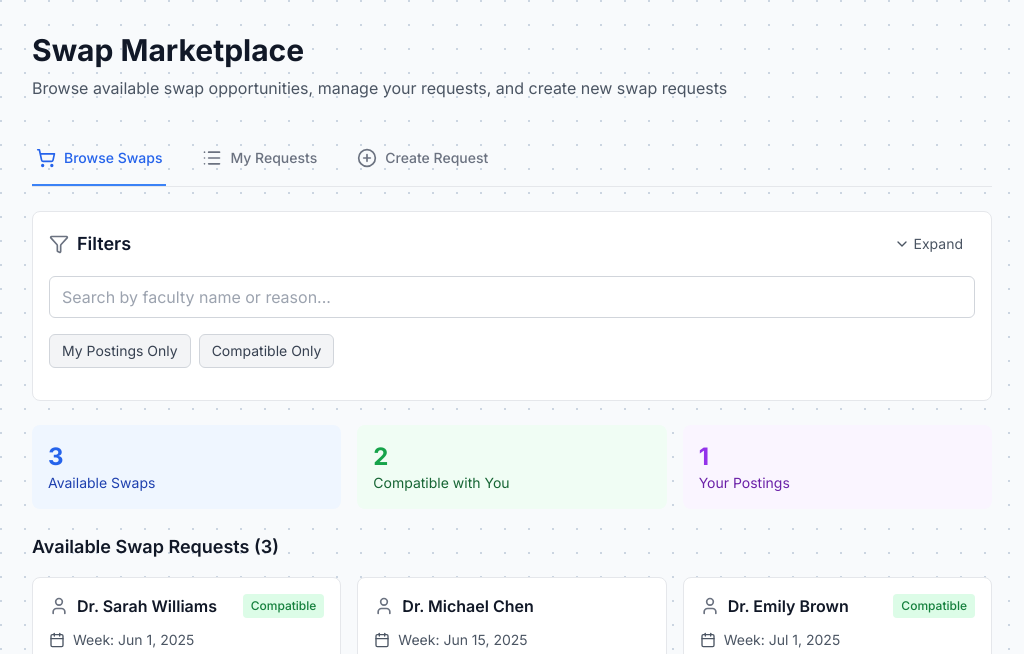
Scenario: SwapMarketplace › Create Request Tab › should navigate to Browse tab when cancel is clicked
The width and height of the screenshot is (1024, 654).
Navigate to create tab
Click the tab with aria-label "Create a new swap".
click(423, 159)  # box [353,132,492,186]
(page scrolled)
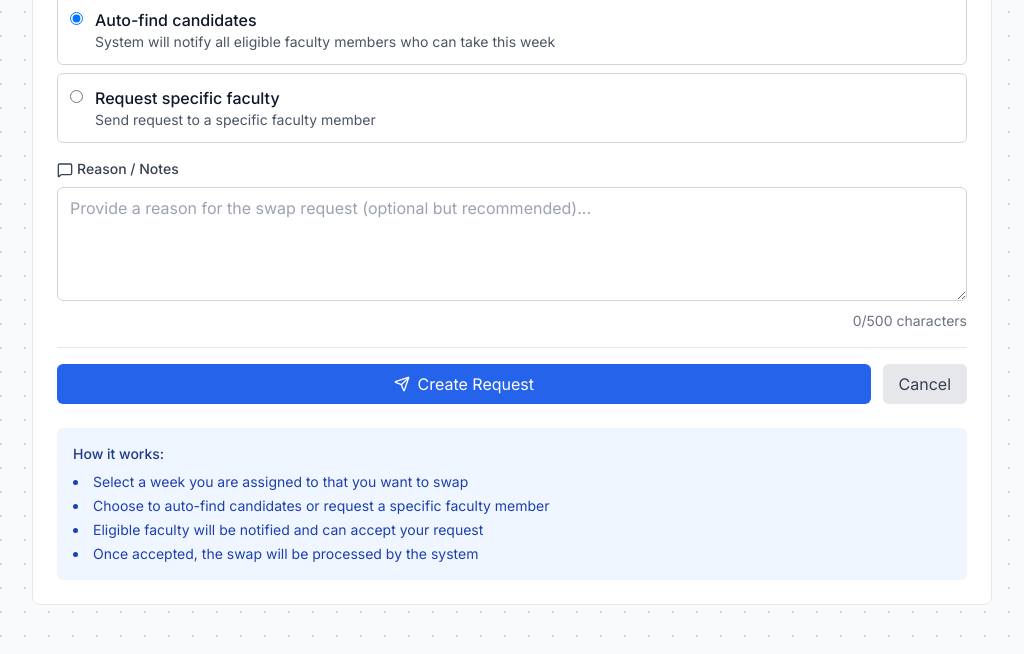
Click cancel
Click the button "Cancel".
click(925, 384)  # box [882,364,967,404]
(page scrolled)
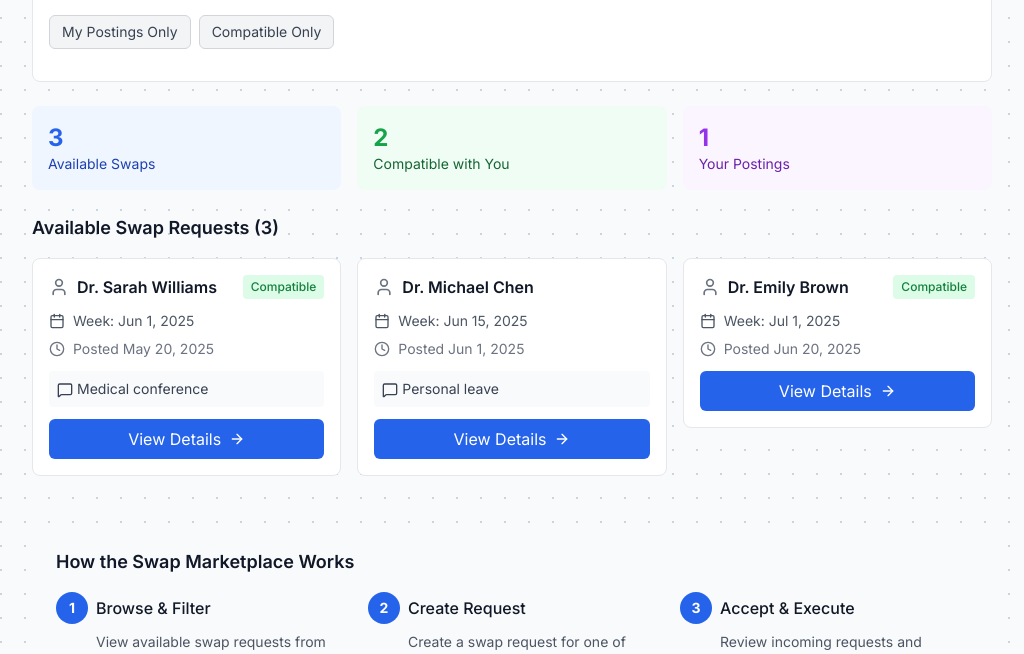
Check: the heading "Available Swap Requests (3)" is shown, box [32,214,279,242]
